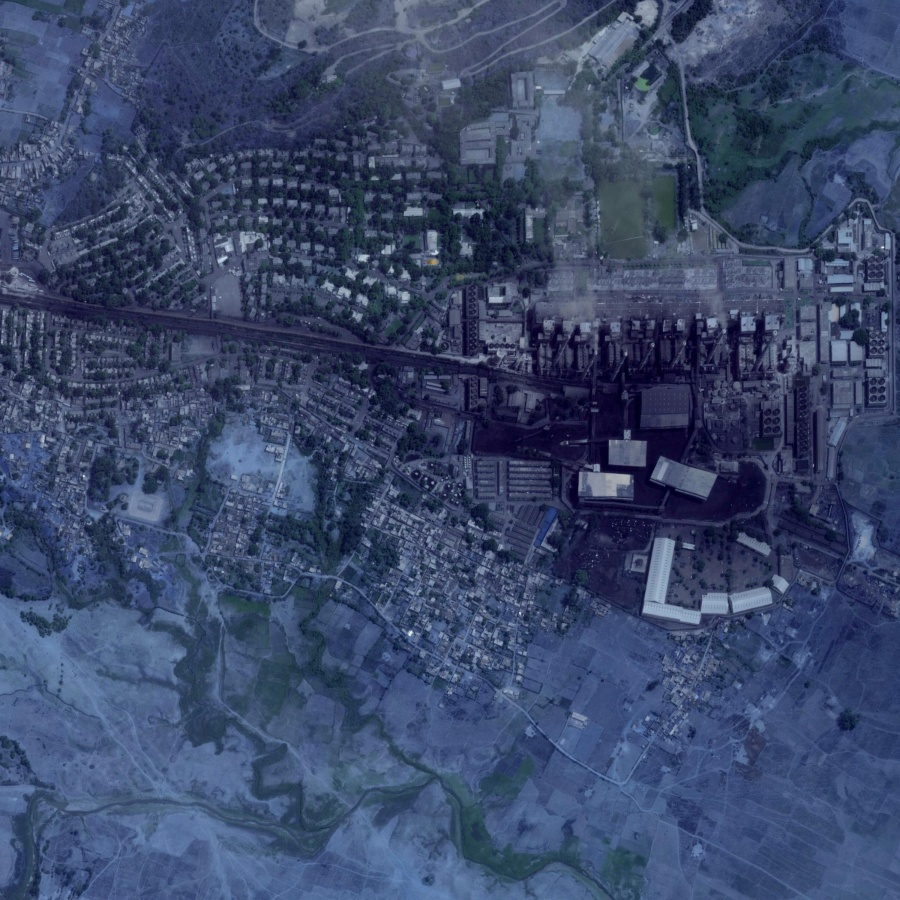PowerPlant: (473, 180, 896, 530)
